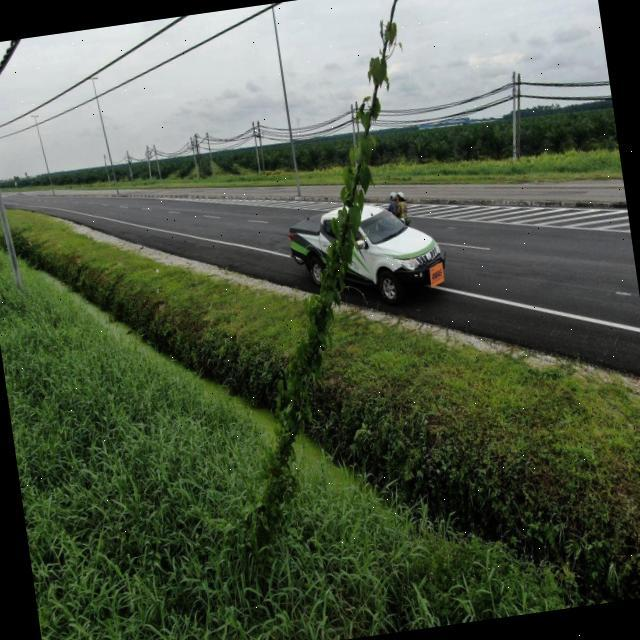critical vegetation: (182, 13, 472, 536)
